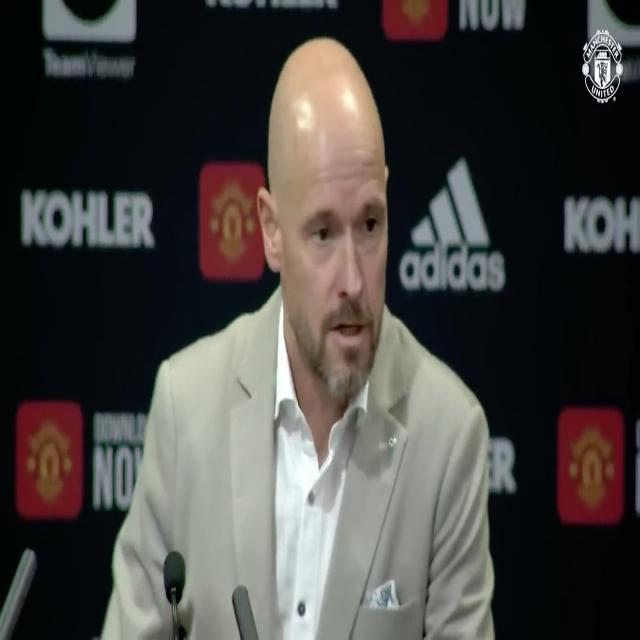Adidas: (398, 158, 506, 290)
Kohler: (22, 191, 155, 248)
TeamViewer: (44, 0, 135, 76)
